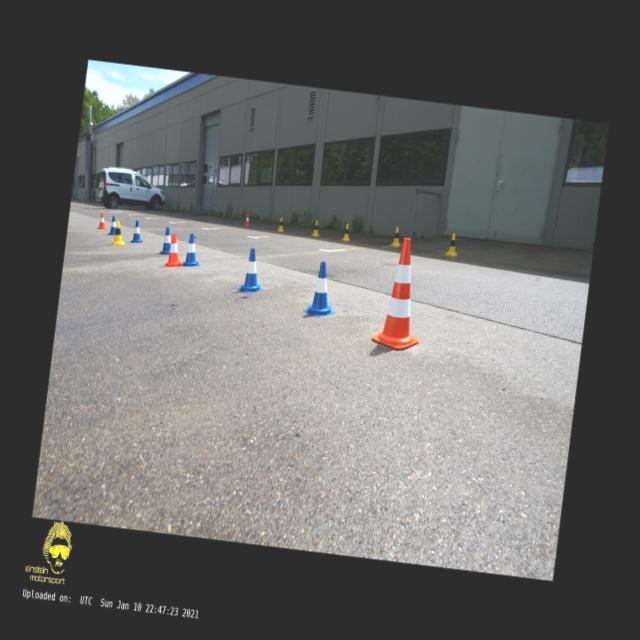blue_cone: (302, 260, 341, 320), (236, 246, 268, 295), (182, 232, 203, 268), (158, 226, 172, 255), (130, 220, 144, 243), (108, 215, 116, 235)
large_orange_cone: (370, 235, 430, 352)
orange_cone: (163, 232, 185, 268), (97, 212, 108, 230), (243, 213, 251, 227)
yellow_cone: (110, 220, 128, 247), (444, 231, 460, 257), (388, 225, 402, 248), (340, 222, 353, 242), (310, 219, 320, 236), (276, 216, 286, 232)
